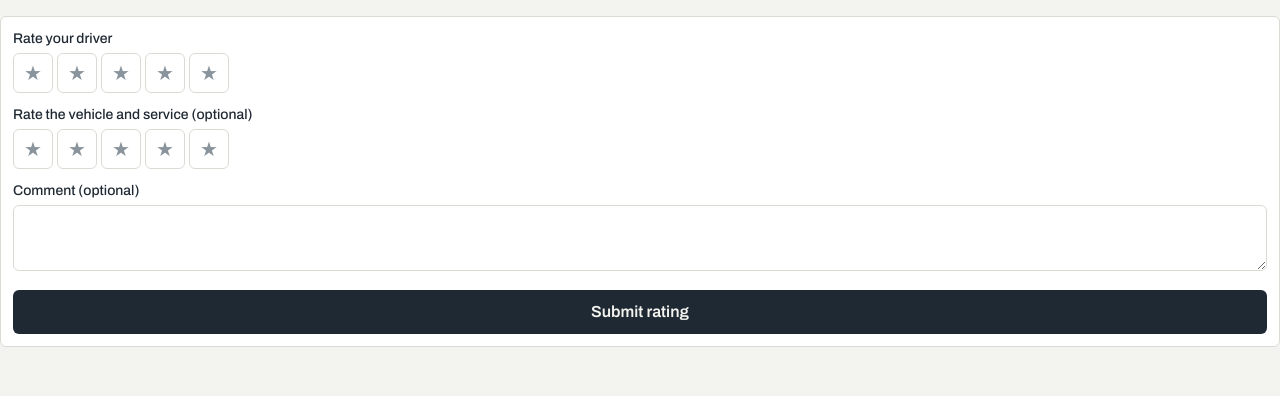
Test: Rating form › a duplicate submission shows the server message
Click the radio button named "5 stars" at (209,73), box [189, 53, 229, 93]
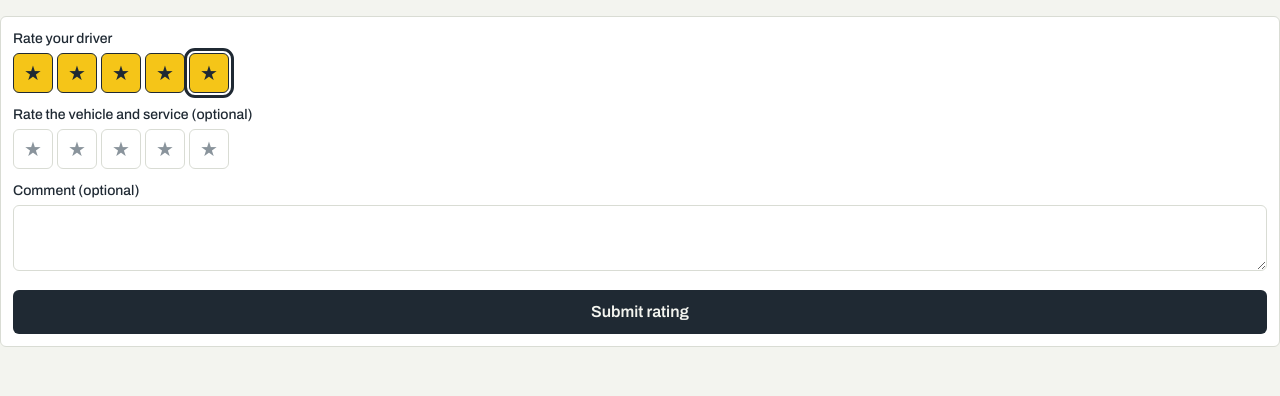
Click the button "Submit rating" at (640,312), box [13, 290, 1267, 334]
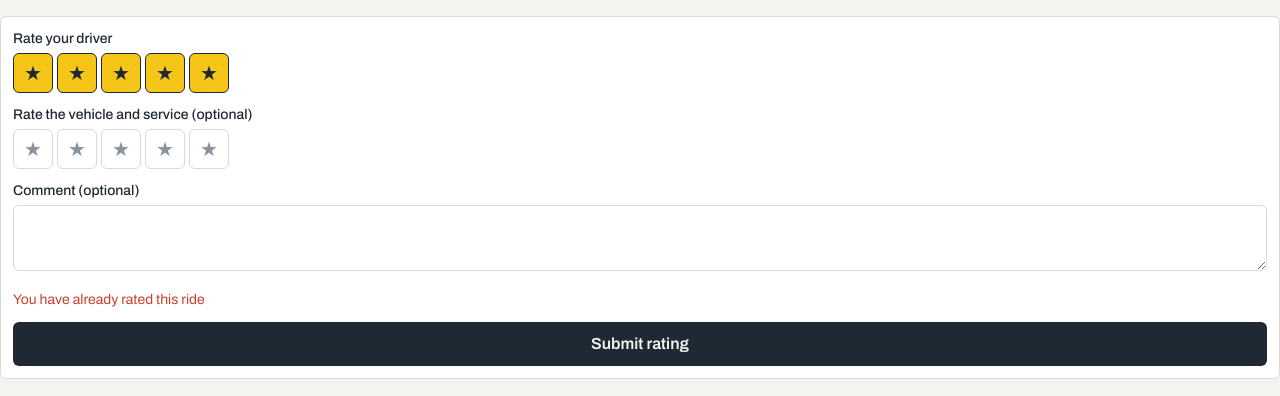
Check: the message shows "already rated", box [13, 292, 205, 307]
